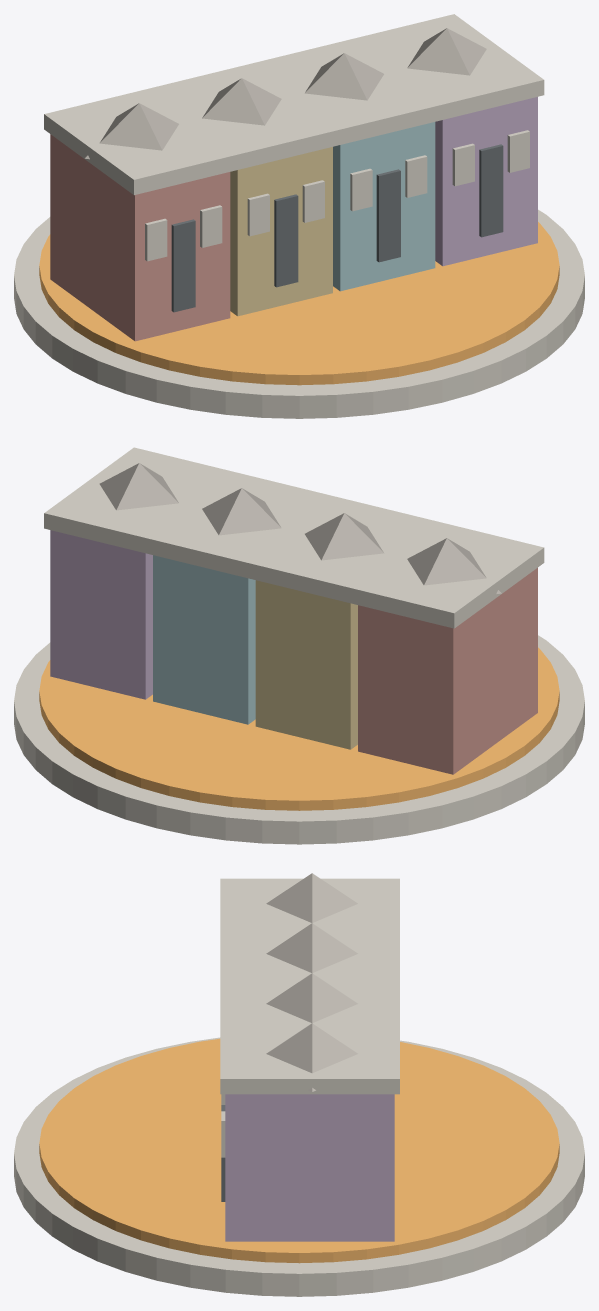
The model's file is bo-kaap.glb.
3 views of the same model, one above another, from view 1: azimuth 30°, elevation 25°; view 2: azimuth 150°, elevation 25°; view 3: azimuth 270°, elevation 25° (orthographic).
Visible parts, largest first — view 1: Cone.005; view 2: Cone.005; view 3: Cone.005.
Boxes of the visible parts, bbox=[...] form: Cone.005: bbox=[14, 14, 584, 418]; Cone.005: bbox=[14, 447, 584, 844]; Cone.005: bbox=[14, 873, 584, 1296].
Size of the model in its own units: 2.7 by 1.19 by 2.7.
